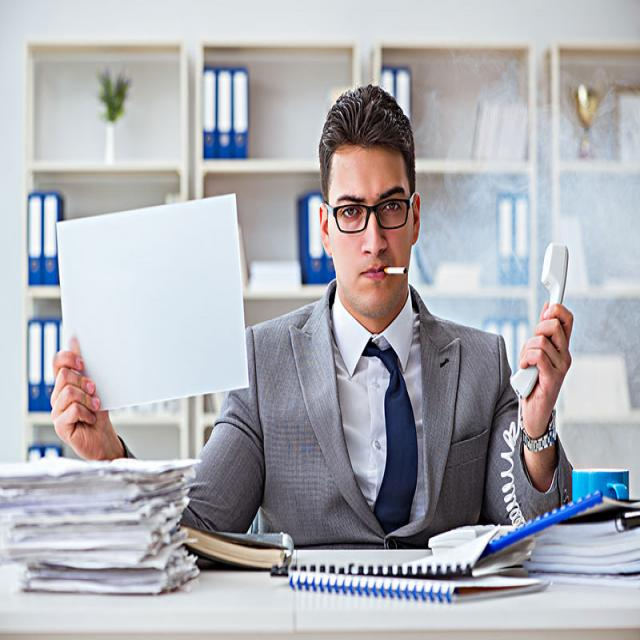smoking: (383, 264, 407, 276)
